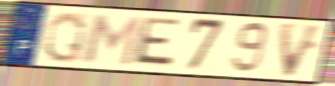7: (185, 16, 227, 73)
9: (228, 21, 270, 76)
E: (129, 15, 184, 70)
M: (82, 12, 144, 68)
Q: (41, 10, 90, 64)
V: (277, 20, 326, 79)
